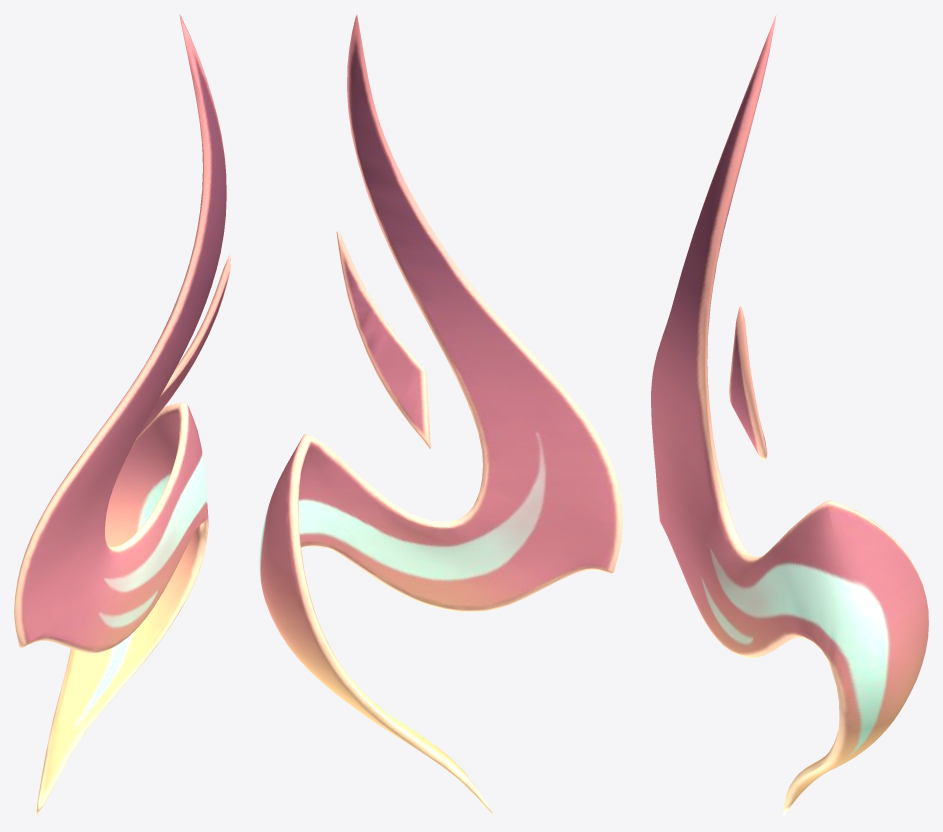
File: flame_vegetation_01_a.glb
3 views of the same model, side by side, from view 1: azimuth 30°, elevation 25°; view 2: azimuth 150°, elevation 25°; view 3: azimuth 270°, elevation 25° (orthographic). The views are drawn at different scales.
Parts seen in each view (by area): view 1: SM_KC_FLAME_VEGETATION_01_A; view 2: SM_KC_FLAME_VEGETATION_01_A; view 3: SM_KC_FLAME_VEGETATION_01_A.
Boxes of the visible parts, left/top/right/bottom form: SM_KC_FLAME_VEGETATION_01_A: left=14, top=14, right=230, bottom=817; SM_KC_FLAME_VEGETATION_01_A: left=259, top=14, right=622, bottom=816; SM_KC_FLAME_VEGETATION_01_A: left=651, top=14, right=928, bottom=817.
Bounding box in the file's own units: 1.18 × 3.17 × 0.9045.
1 material, 1 textured.
